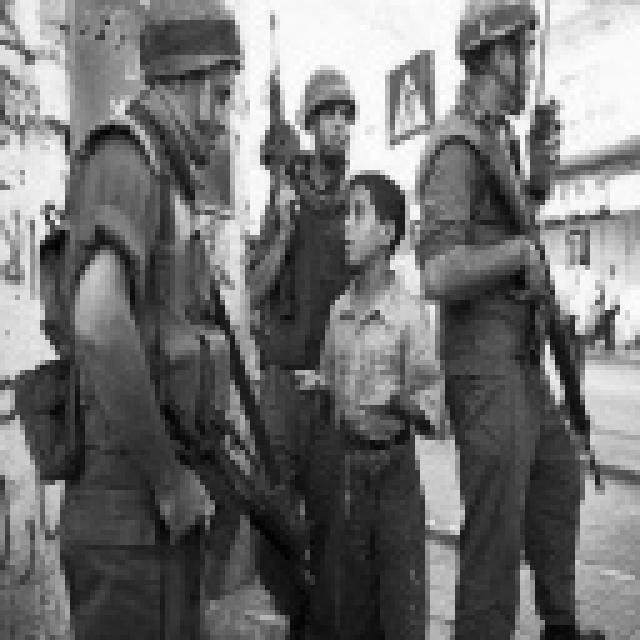Rifle: (471, 128, 621, 501), (145, 365, 335, 640), (226, 79, 322, 203)
